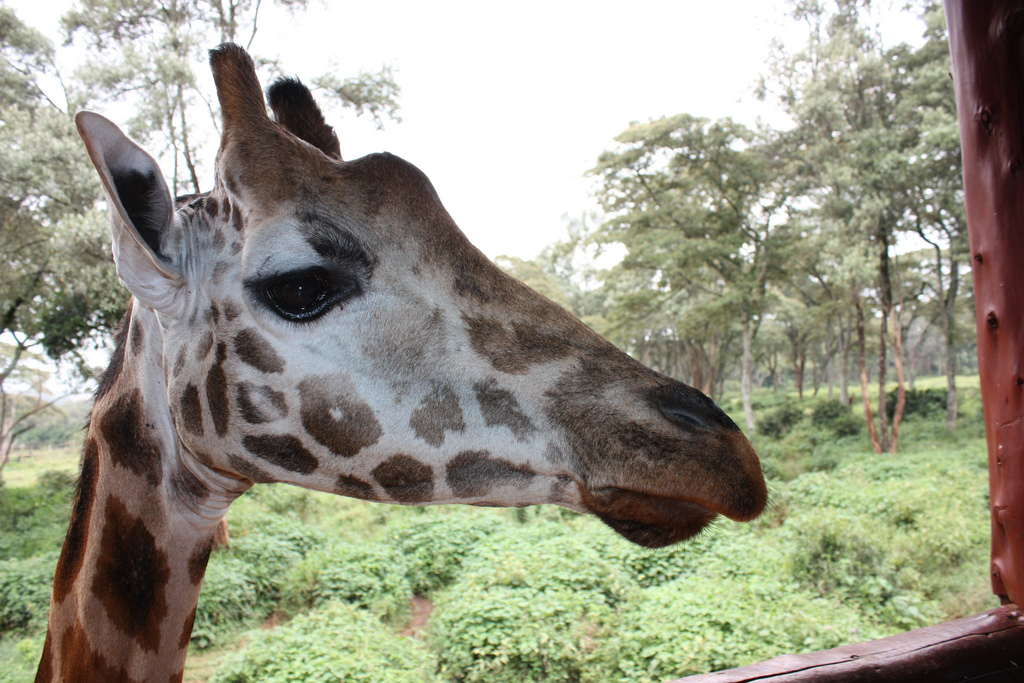giraffe: (44, 56, 807, 627)
